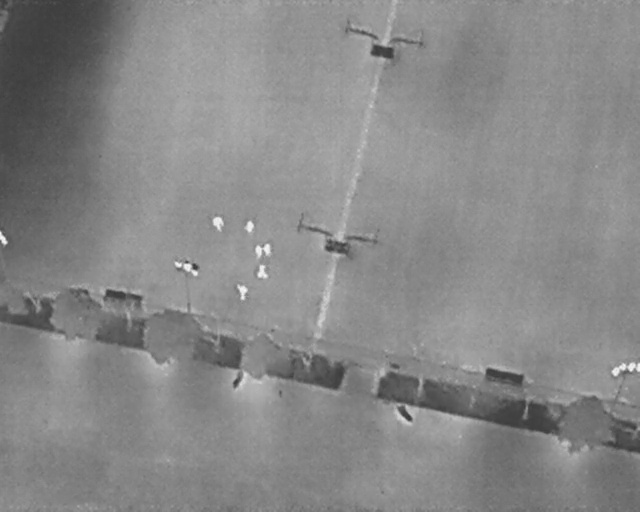Person: (213, 216, 224, 233), (237, 284, 248, 301), (257, 264, 267, 278), (245, 220, 254, 234), (264, 243, 272, 257), (255, 245, 263, 259)
